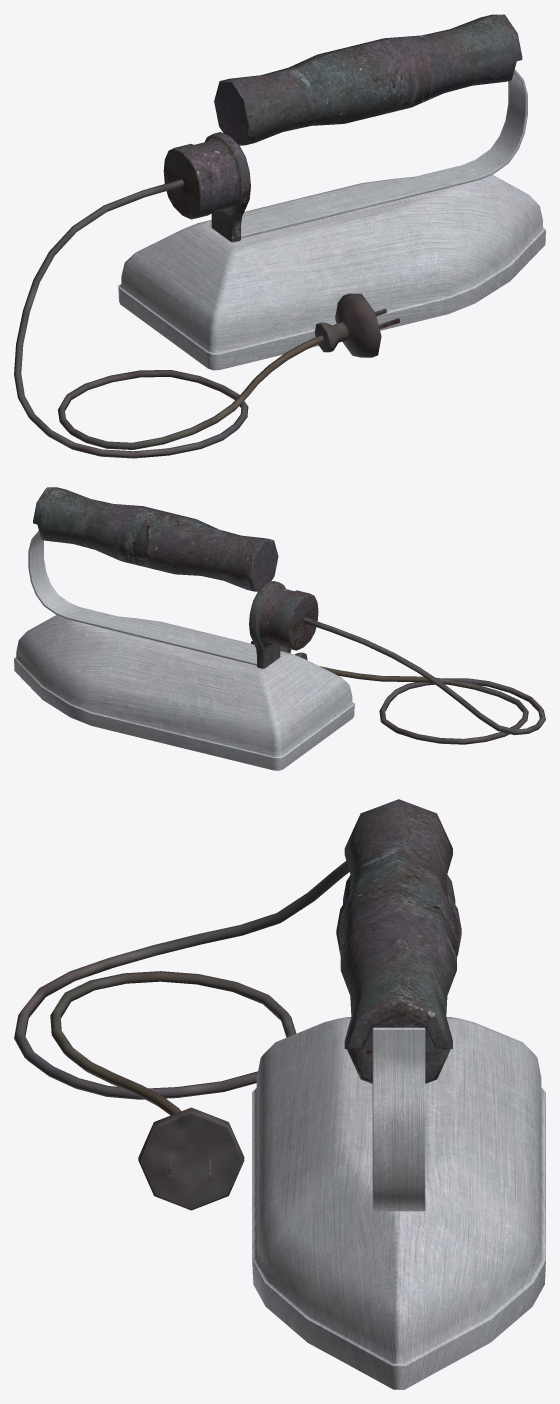
The model's file is SM_IroningIron.FBX.
3 views of the same model, one above another, from view 1: azimuth 30°, elevation 25°; view 2: azimuth 150°, elevation 25°; view 3: azimuth 270°, elevation 25° (orthographic). The views are drawn at different scales.
Visible parts, largest first — view 1: SM_IroningIron_LOD0; view 2: SM_IroningIron_LOD0; view 3: SM_IroningIron_LOD0.
Boxes of the visible parts, x1,y1,x2,y2 form: SM_IroningIron_LOD0: (14, 14, 545, 458); SM_IroningIron_LOD0: (14, 487, 545, 770); SM_IroningIron_LOD0: (14, 799, 545, 1389).
Size of what is drawn, in the model's own units: 41.12 by 16.47 by 21.58.
